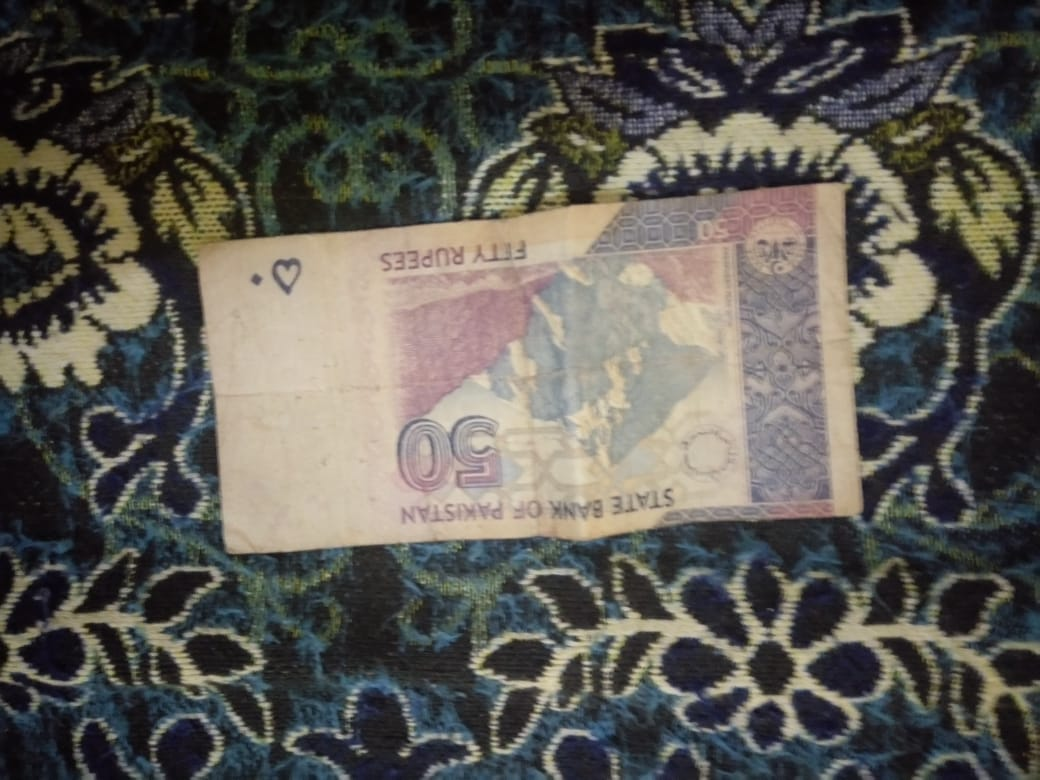50 rupee: (176, 194, 878, 564)
